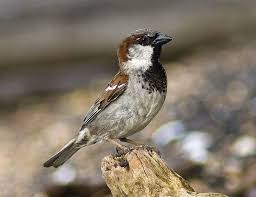hsparrow: (42, 27, 178, 183)
